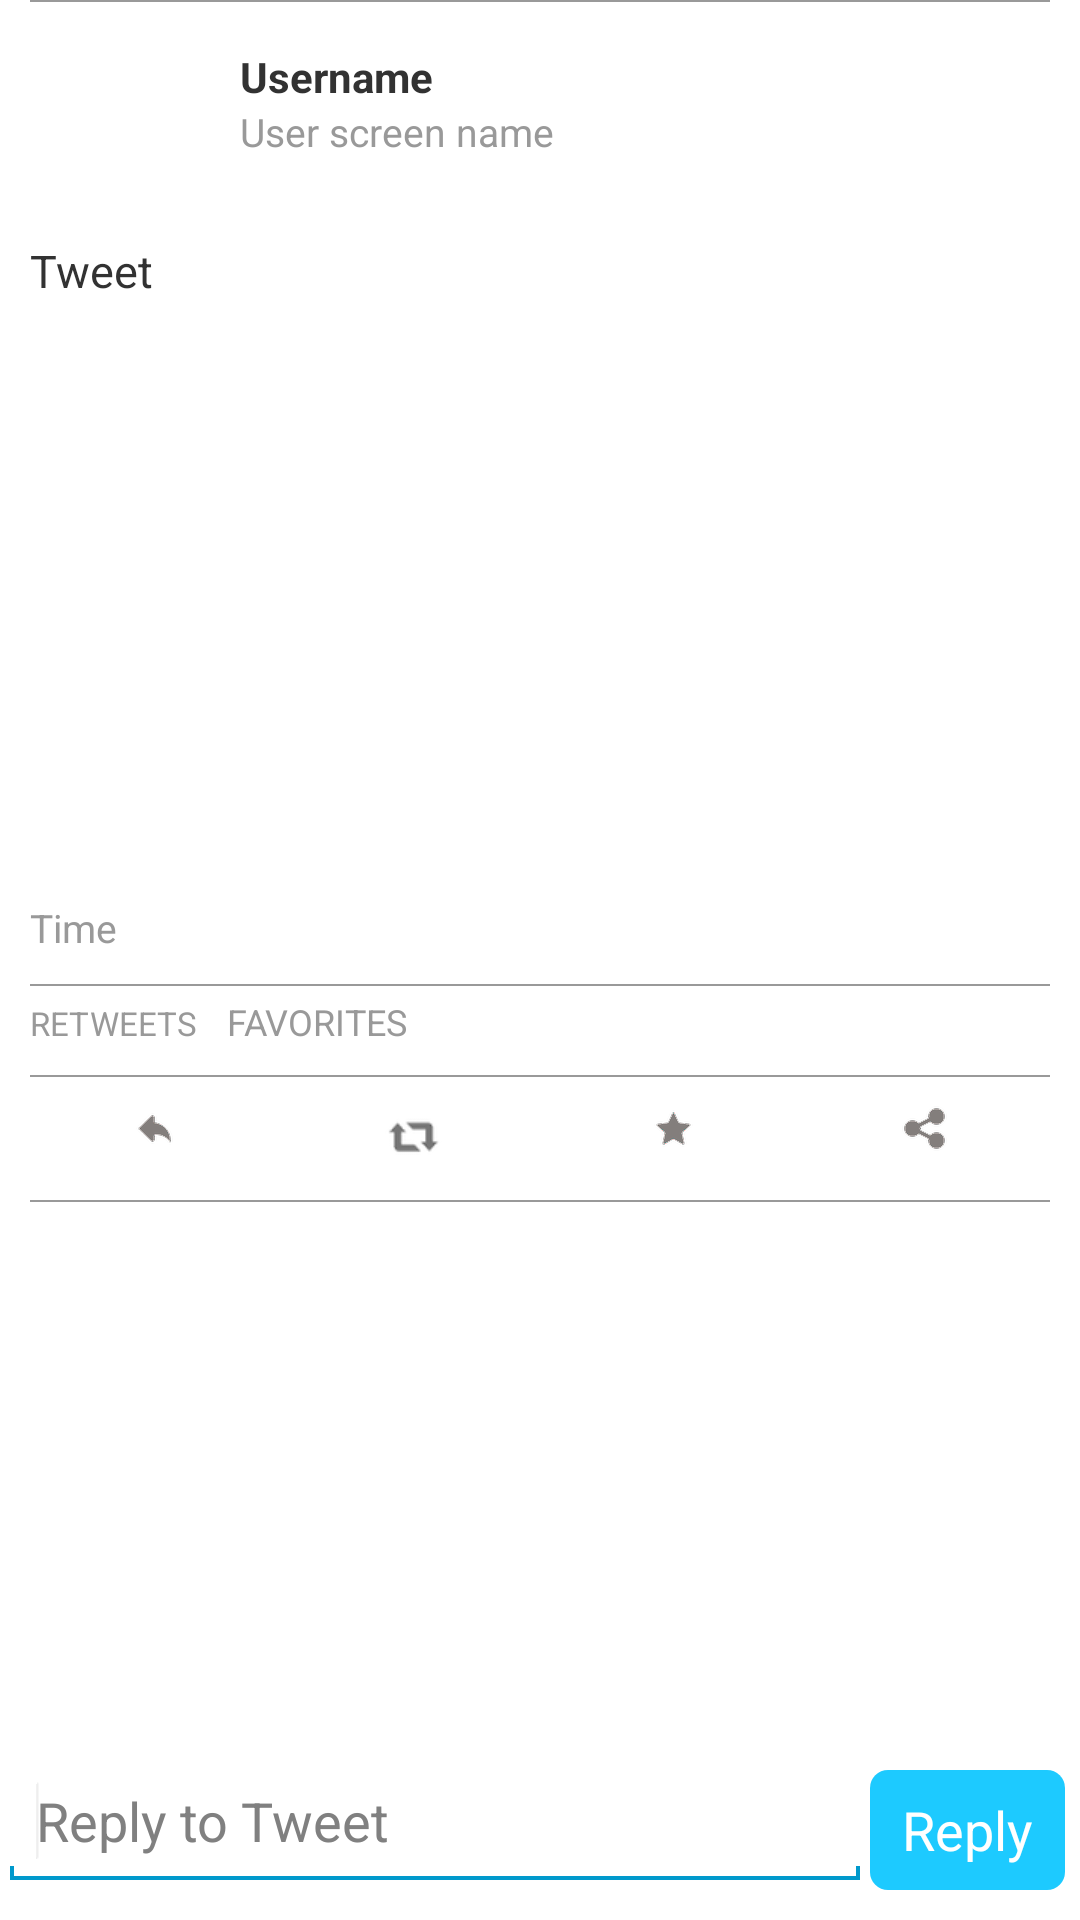

Icon click points for this 1080×1920 phone screenshot, format [x,y]:
fav star off: [673,1128]
reply: [154,1128]
share twitter: [924,1128]
